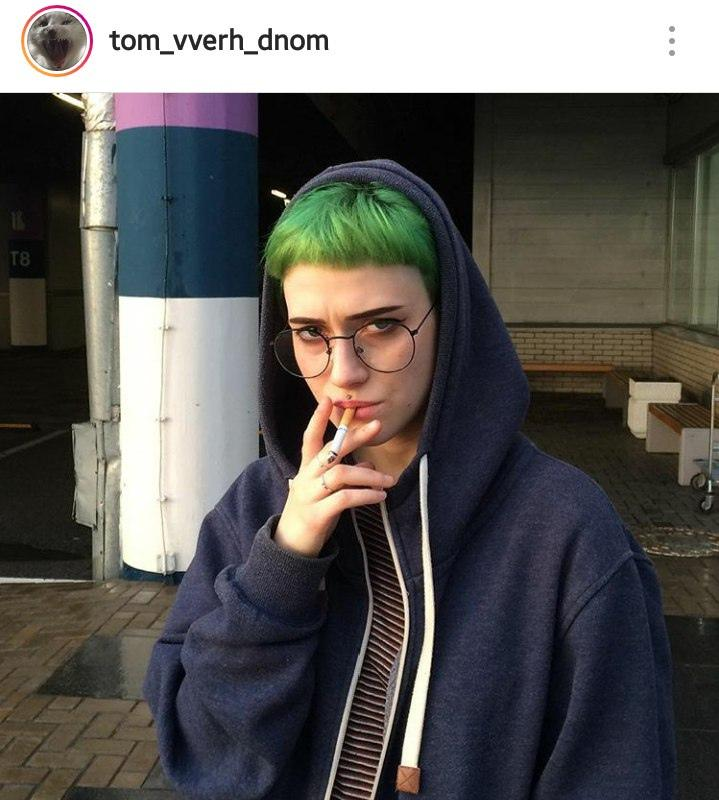cigarette: (327, 407, 356, 464)
